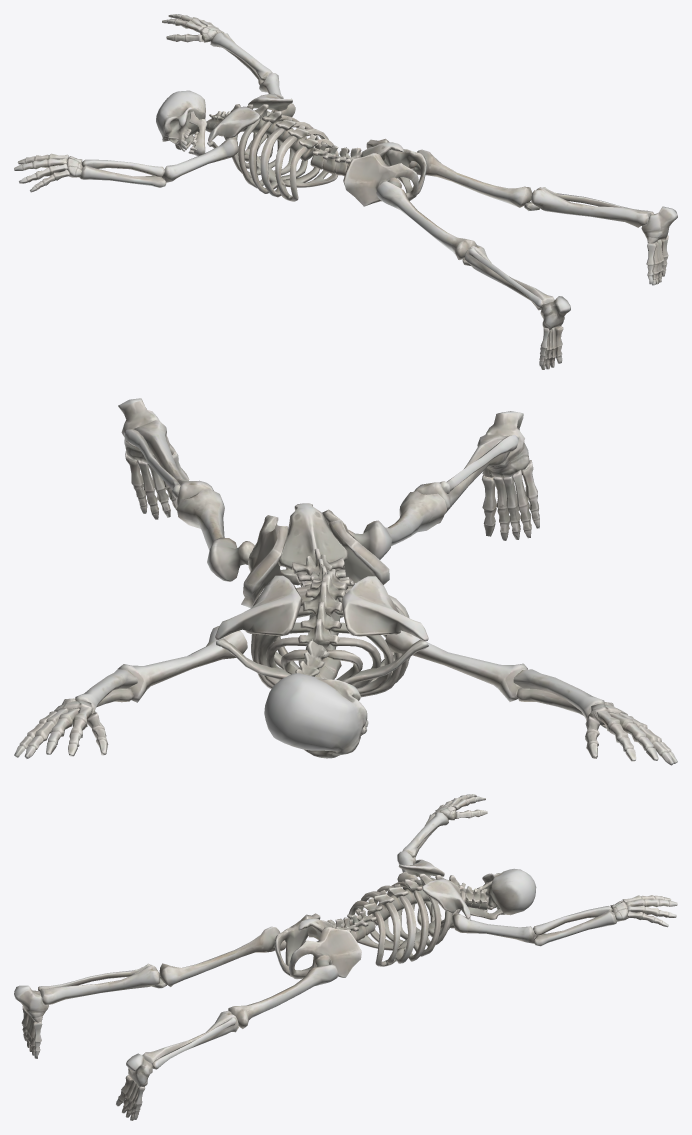
3 renders of one model, top to bottom at view 1: azimuth 30°, elevation 25°; view 2: azimuth 150°, elevation 25°; view 3: azimuth 270°, elevation 25°, orthographic. The views are drawn at different scales.
Parts seen in each view (by area): view 1: SM_FullBody_01_LOD0; view 2: SM_FullBody_01_LOD0; view 3: SM_FullBody_01_LOD0.
Boxes of the visible parts, bbox=[...] form: SM_FullBody_01_LOD0: bbox=[14, 14, 677, 369]; SM_FullBody_01_LOD0: bbox=[14, 398, 677, 765]; SM_FullBody_01_LOD0: bbox=[14, 794, 677, 1120].
Size of the model in its own units: 1.99 by 0.5453 by 2.35.
1 material, 1 textured.
